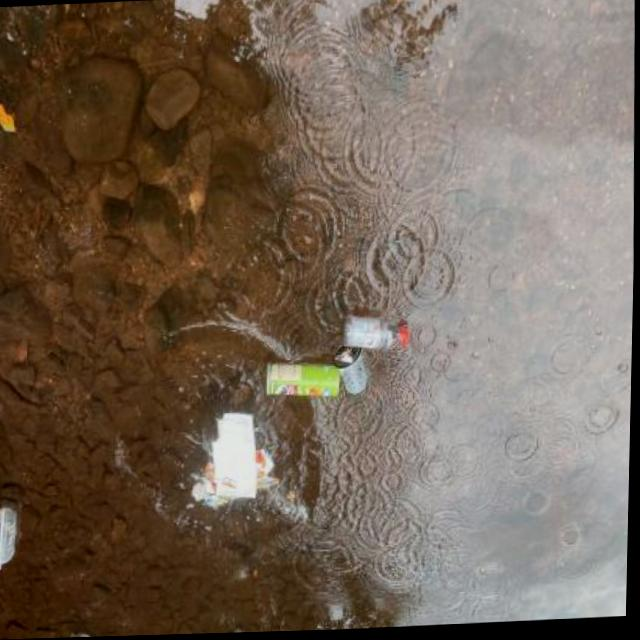Can-Metal: (256, 351, 348, 408)
Cup: (0, 497, 27, 584)
Paper: (184, 404, 282, 514)
Plastic: (338, 302, 420, 351), (329, 345, 377, 403), (0, 408, 3, 480)
